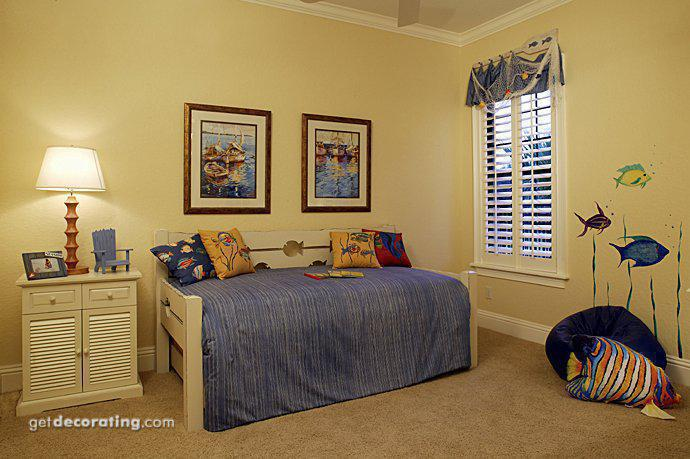Cama: (169, 241, 473, 401)
Electrodomestico: (538, 300, 673, 425)
Ventana: (474, 67, 565, 275)
